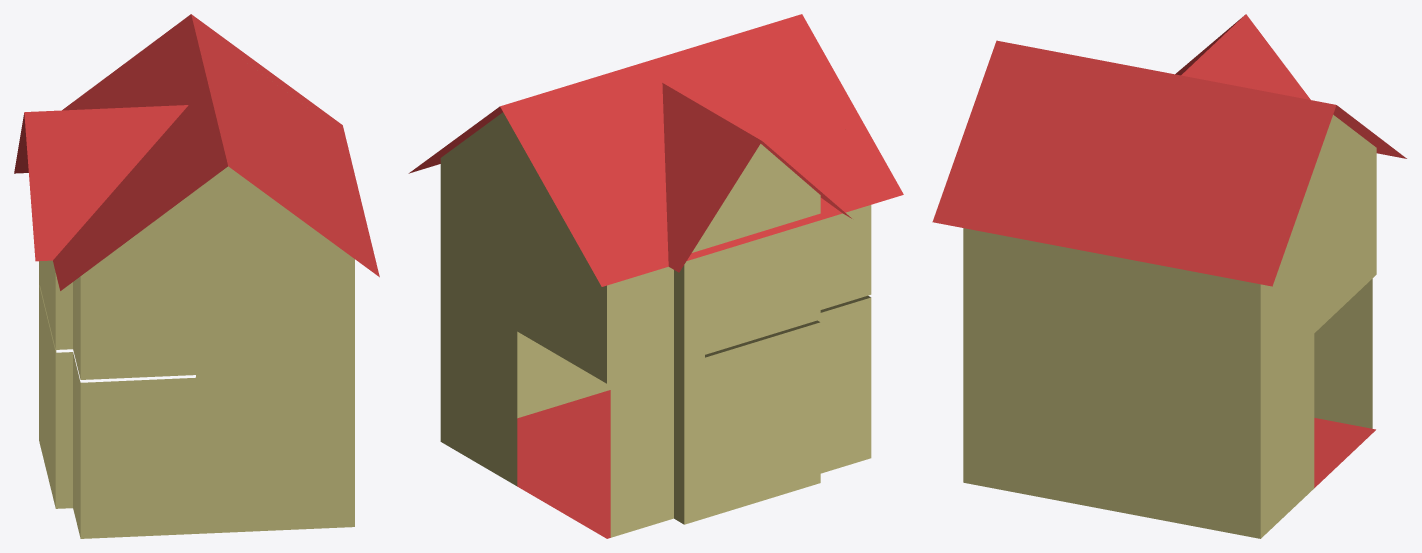
The picture shows the model from 3 angles, left to right: view 1: azimuth 30°, elevation 25°; view 2: azimuth 150°, elevation 25°; view 3: azimuth 270°, elevation 25°; orthographic projection. The views are drawn at different scales.
Bounding box in the file's own units: 14.55 × 15.23 × 13.68.
